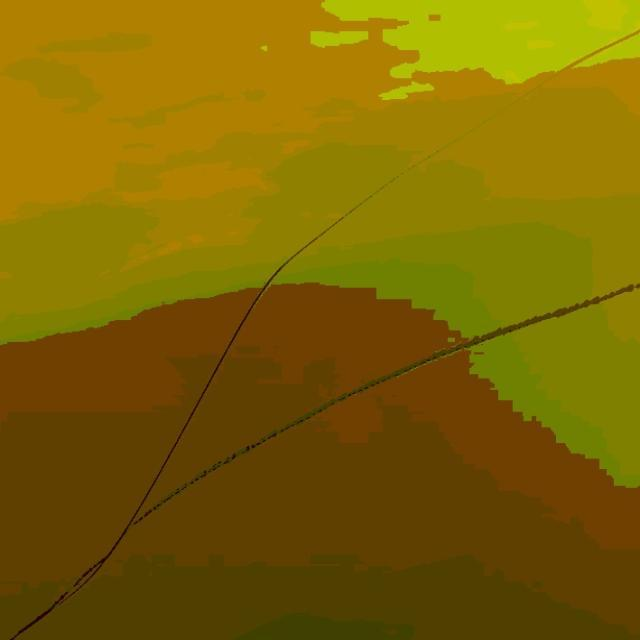crack: (222, 256, 632, 477), (222, 116, 457, 356)
